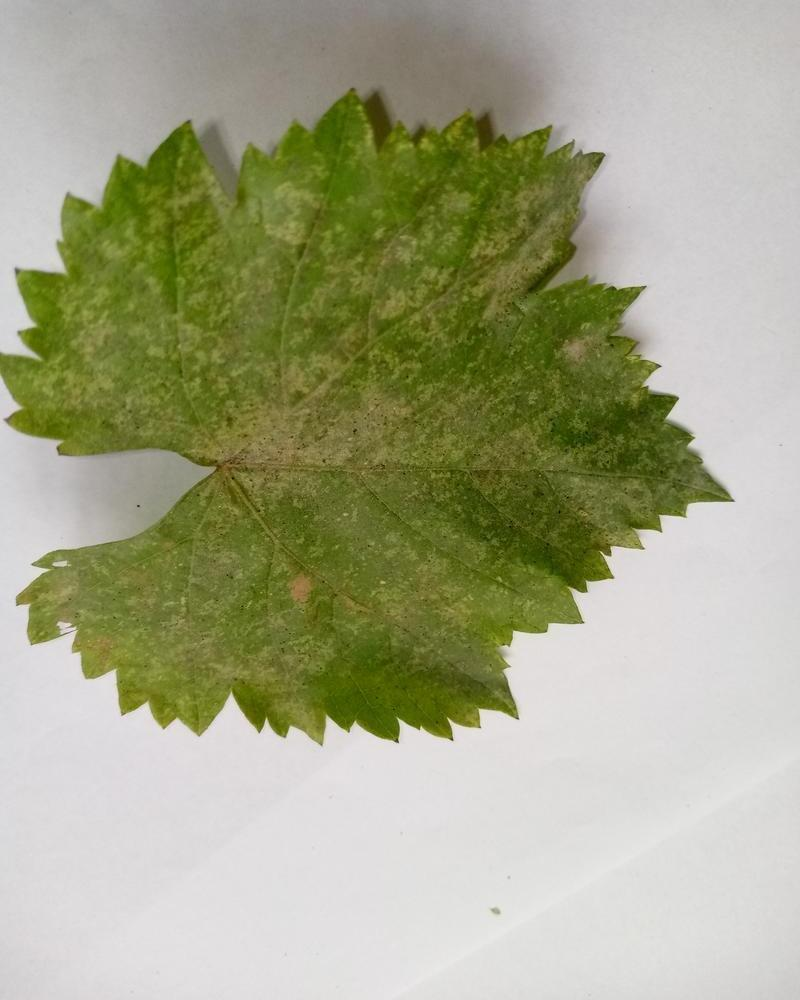Powdery-Mildew: (211, 343, 422, 500), (455, 157, 586, 305), (533, 448, 657, 538), (258, 181, 321, 244), (559, 311, 622, 374), (274, 557, 337, 620)
